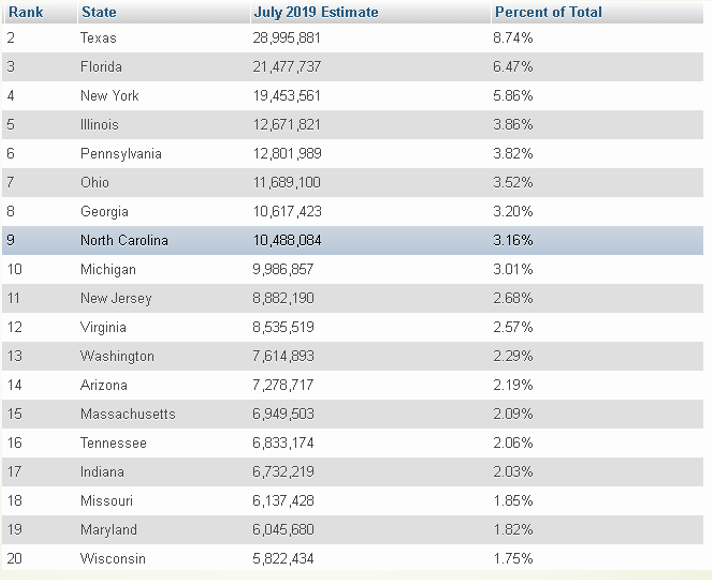

Layout of this report page (visuals, bound fields, positions):
{"tool":"powerbi","page":{"name":"Page 1","canvas":[1280,720],"ordinal":0},"visuals":[{"type":"tableEx","fields":{"Values":["Sum(output_projet_mmed statistic state population.Percent aggrravated)","Sum(output_projet_mmed statistic state population.Percent murders)","Sum(output_projet_mmed statistic state population.Percent robberies)"]},"box":[99.6,99.6,695.5,450.2],"z":1}]}

Visuals, with their boxes on the page's 1280x720 design canvas (x1, y1, x2, y2). These are canvas units, not pixel positions in the 712x580 screenshot, which may show the page scaled, cropped or inside an application window:
tableEx - Sum(output_projet_mmed statistic state population.Percent aggrravated) x Sum(output_projet_mmed statistic state population.Percent murders): 100, 100, 795, 550
